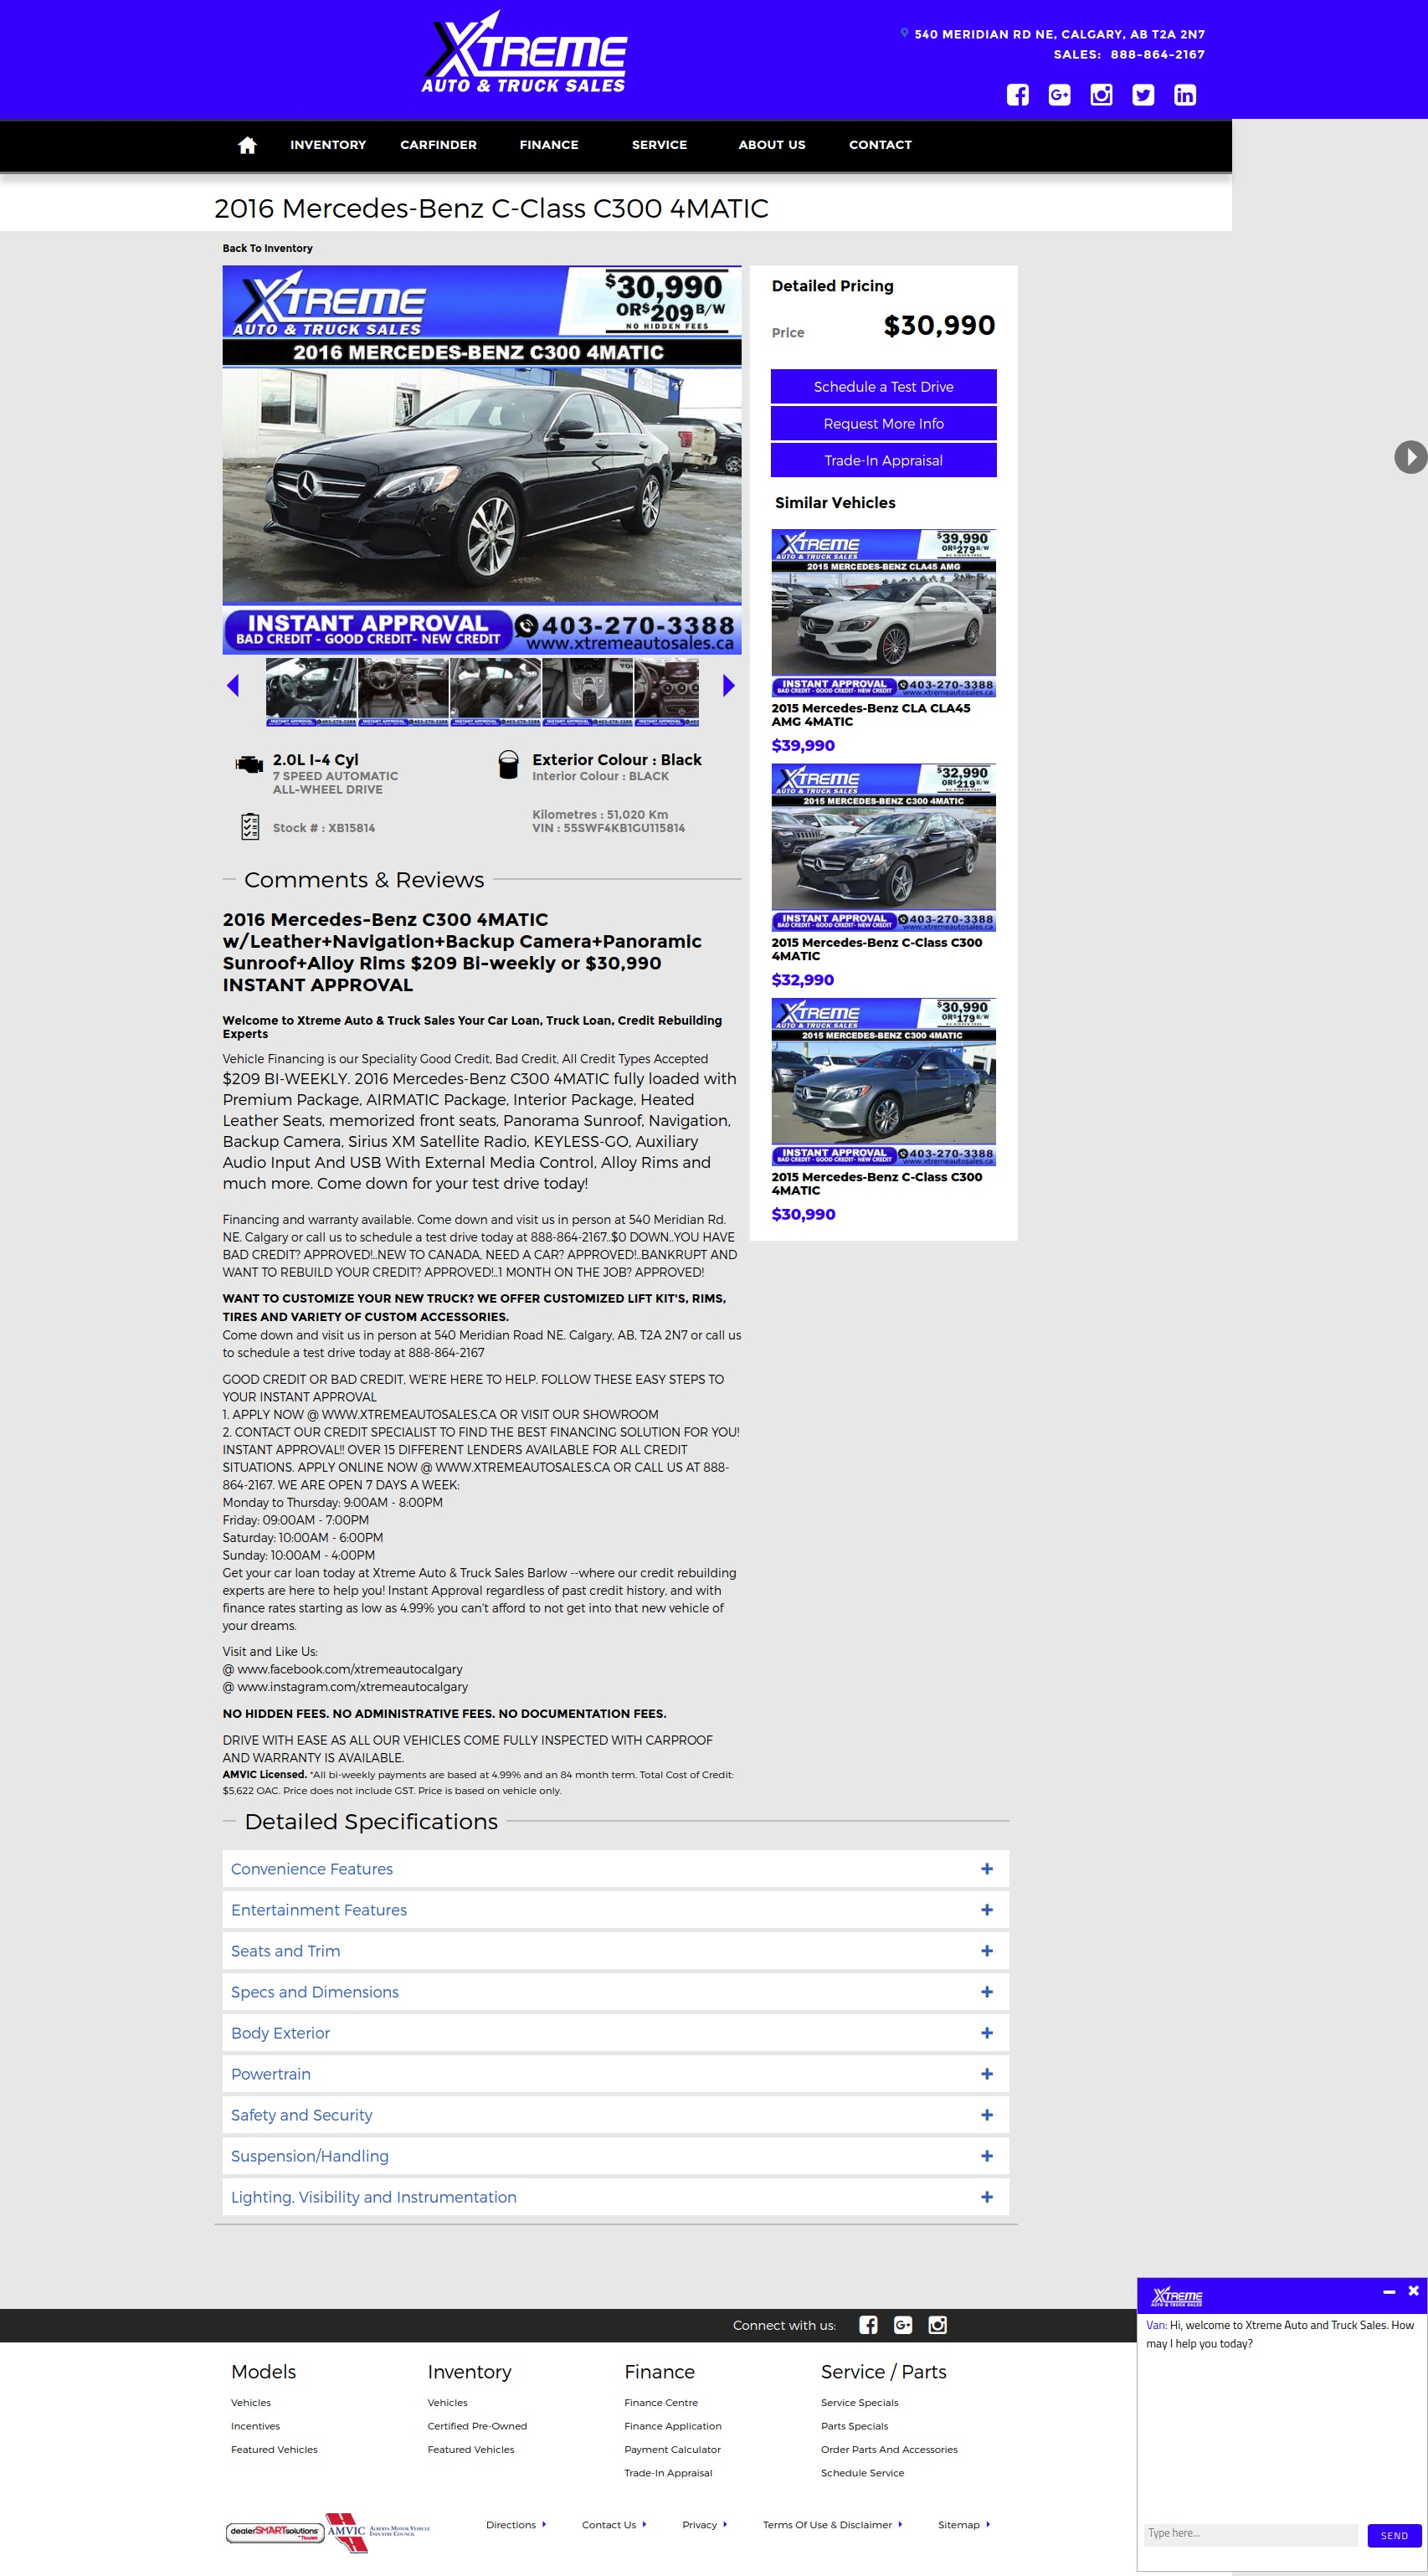car: (723, 673, 737, 698)
